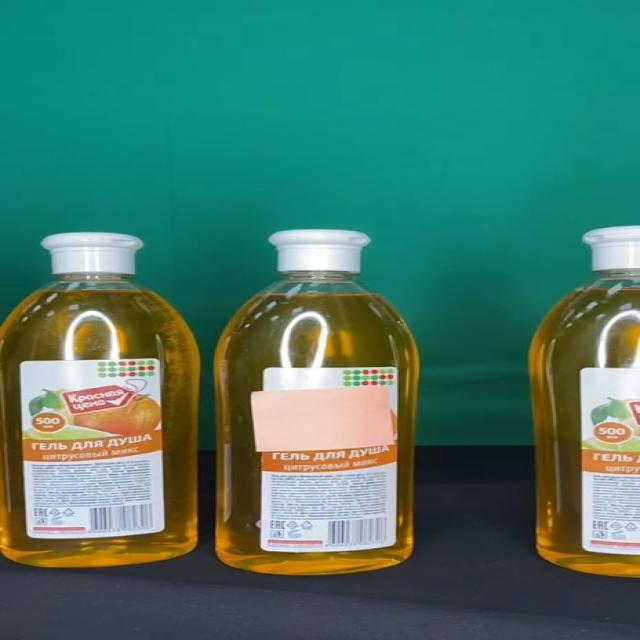Bottle: (218, 229, 418, 575), (1, 231, 200, 569)
Cap: (271, 230, 373, 273), (41, 232, 145, 274)
